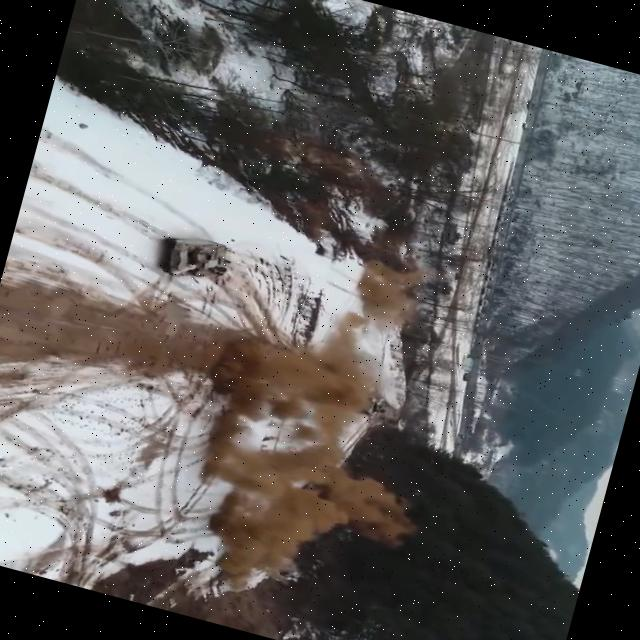korea tank: (149, 227, 239, 291)
